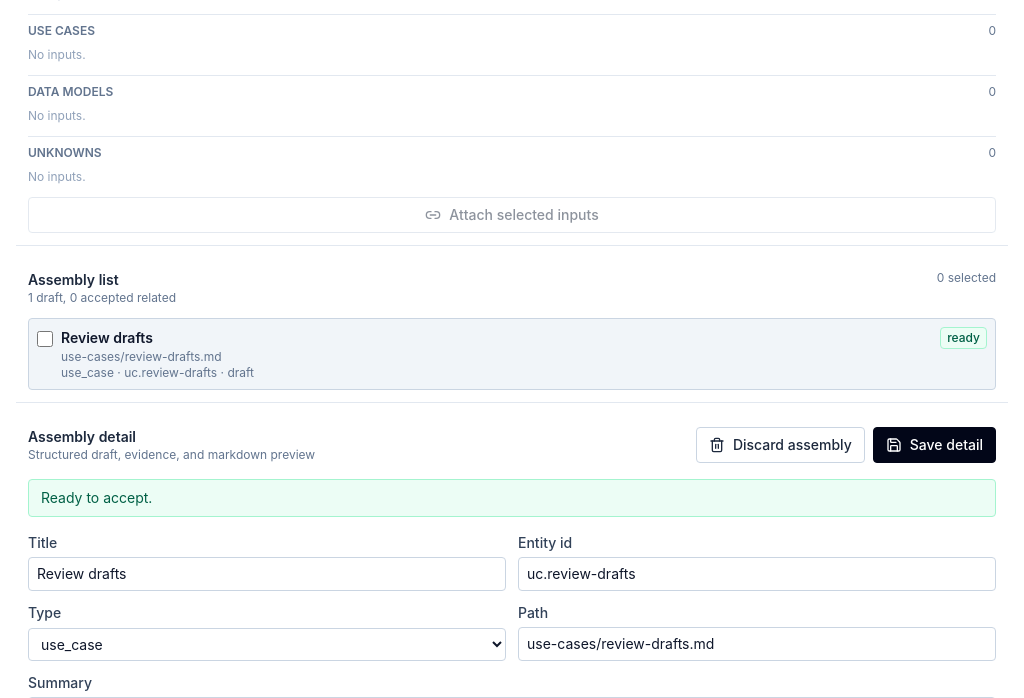
Test case: AnalyzeRunReviewPage › accepts selected ready assemblies and invalidates derived project data
This screenshot has width=1024, height=698.
(page scrolled)
Click the checkbox named "Select assembly Review drafts" at (45, 339), box [37, 331, 53, 347]
(page scrolled)
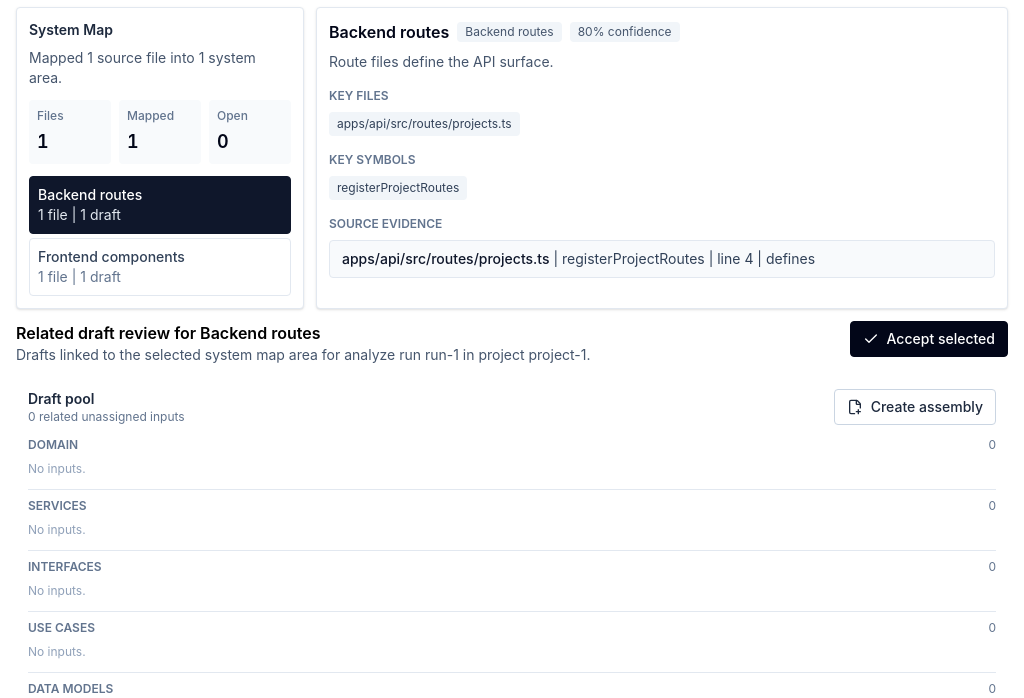
Click the button "Accept selected" at (929, 339), box [850, 321, 1008, 357]
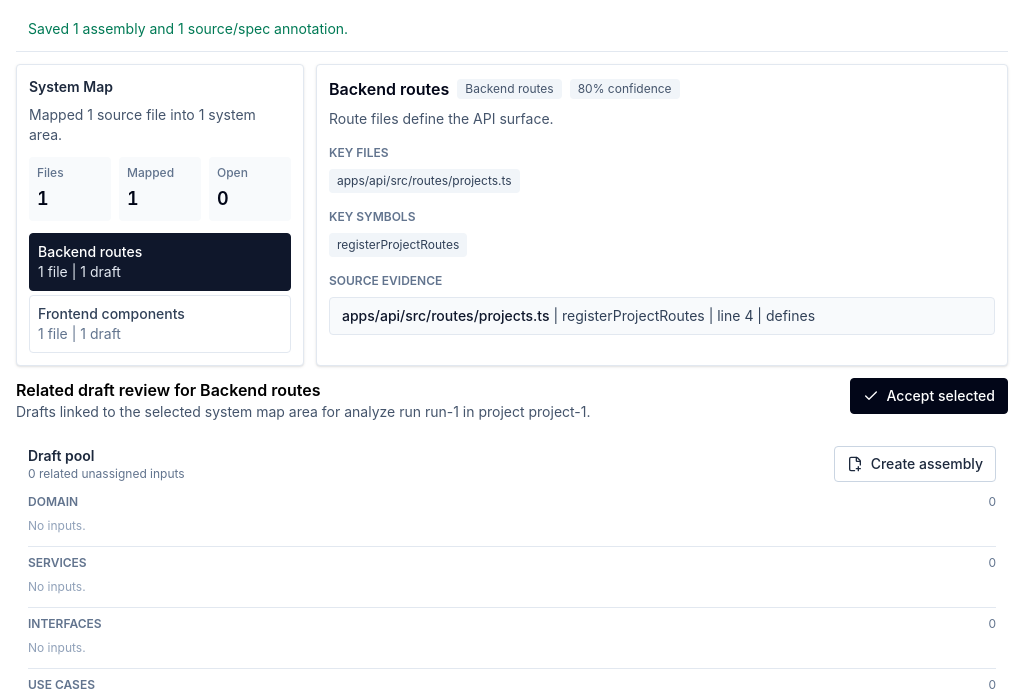
Expected: the text "Saved 1 assembly and 1 source/spec annotation." is shown, [16, 7, 1008, 52]
